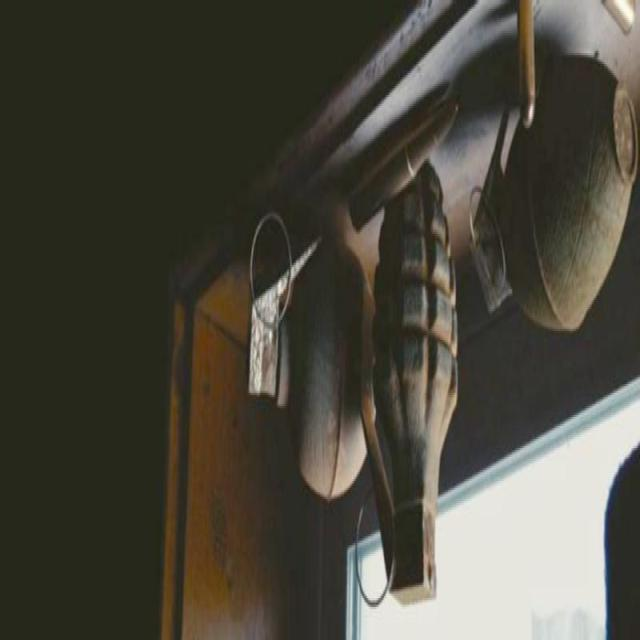grenade: (473, 54, 639, 339), (356, 158, 460, 608), (247, 216, 378, 500)
